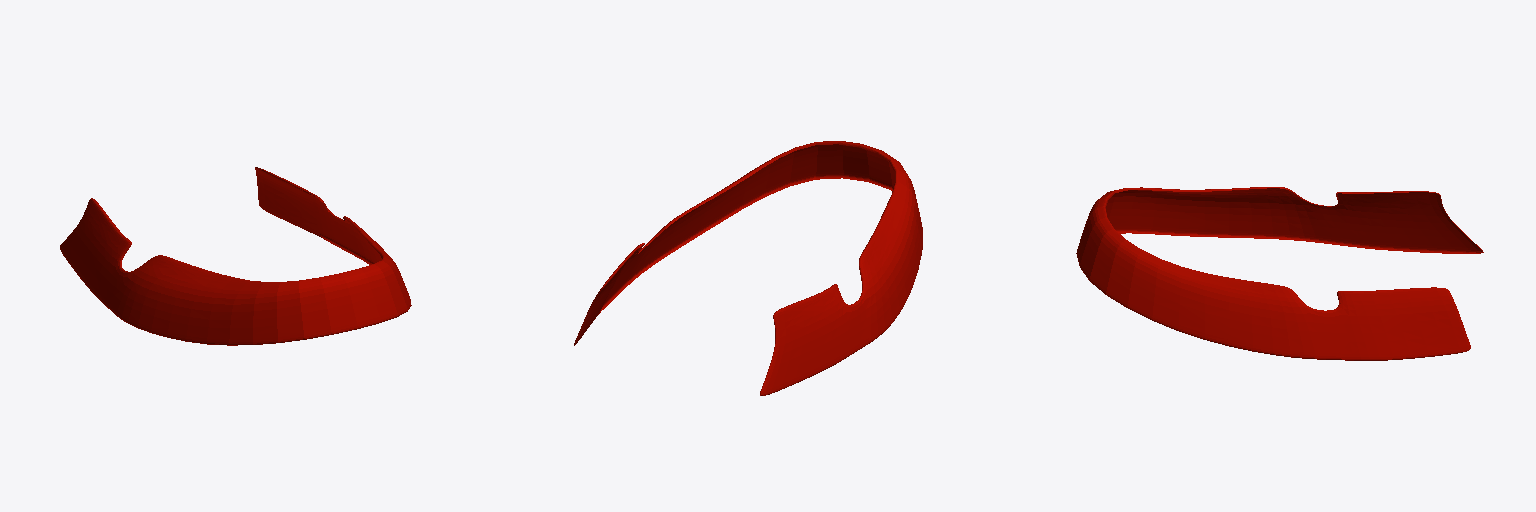
File: toe_cover.obj
The picture shows the model from 3 angles: view 1: azimuth 30°, elevation 25°; view 2: azimuth 150°, elevation 25°; view 3: azimuth 270°, elevation 25°; orthographic projection.
Parts seen in each view (by area): view 1: toe_cover_Toe_cover.001; view 2: toe_cover_Toe_cover.001; view 3: toe_cover_Toe_cover.001.
Boxes of the visible parts, <box> form: toe_cover_Toe_cover.001: <box>60,167,411,345</box>; toe_cover_Toe_cover.001: <box>574,141,922,395</box>; toe_cover_Toe_cover.001: <box>1076,187,1483,360</box>.
Size of the model in its own units: 2.54 by 0.9482 by 3.65.